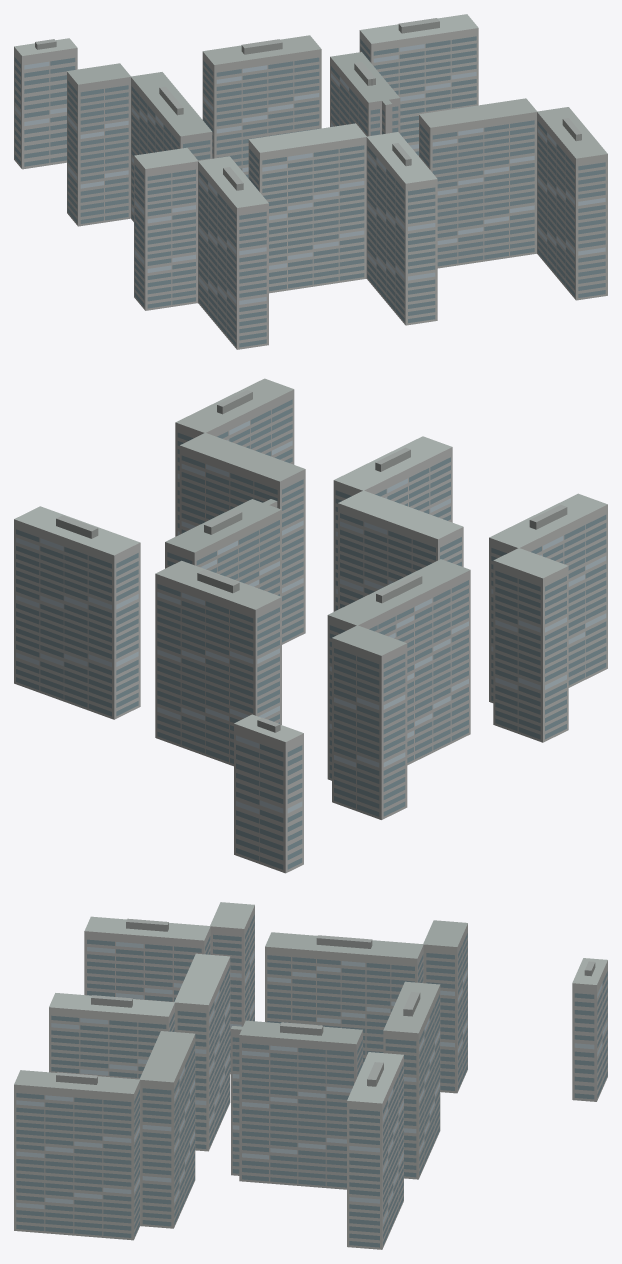
Rendered from apt-a15004202.glb.
3 views of the same model, one above another, from view 1: azimuth 30°, elevation 25°; view 2: azimuth 150°, elevation 25°; view 3: azimuth 270°, elevation 25° (orthographic). The views are drawn at different scales.
Parts seen in each view (by area): view 1: apt-a15004202; view 2: apt-a15004202; view 3: apt-a15004202.
Boxes of the visible parts, x1=… form: apt-a15004202: x1=14, y1=14, x2=607, y2=349; apt-a15004202: x1=14, y1=378, x2=607, y2=873; apt-a15004202: x1=14, y1=902, x2=607, y2=1249.
Size of the model in its own units: 155 by 55 by 194.
